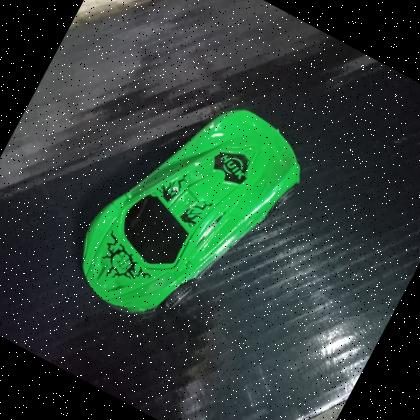Car: (79, 110, 300, 315)
